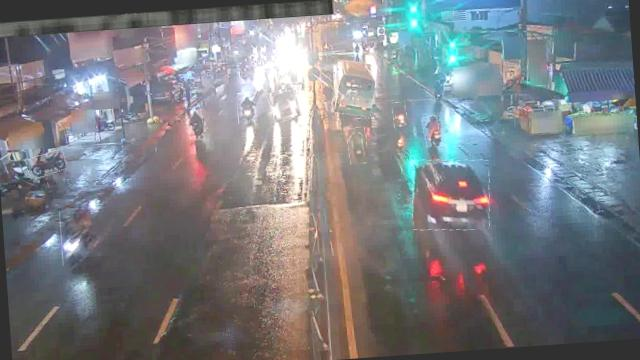Bike: (59, 208, 102, 266), (25, 150, 67, 178), (346, 127, 367, 164), (186, 106, 205, 140), (237, 92, 255, 126), (422, 115, 441, 147), (392, 102, 408, 131)
Bus: (329, 58, 378, 117)
Car: (410, 156, 493, 232), (268, 87, 302, 122)
